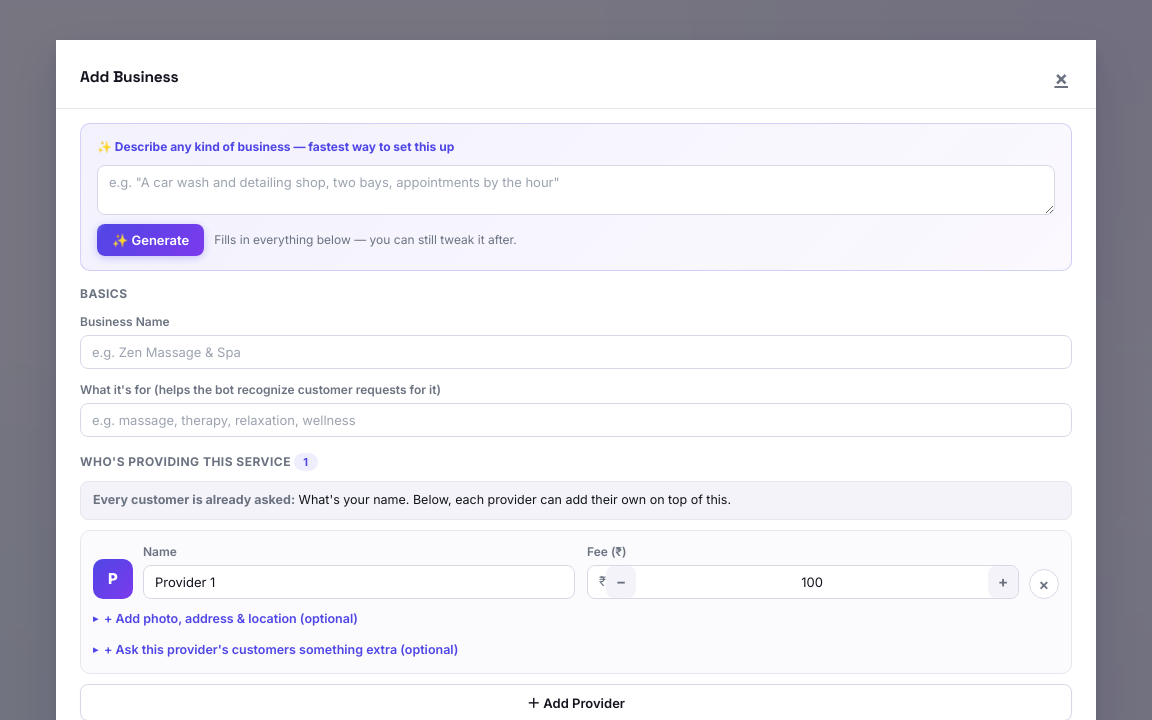
WorkflowEditorModal › removing an added extra question takes it back to zero
This screenshot has width=1152, height=720.
In the field with placeholder "e.g. Zen Massage & Spa": (576, 352) [80,335,1072,369], type "Downtown Salon"
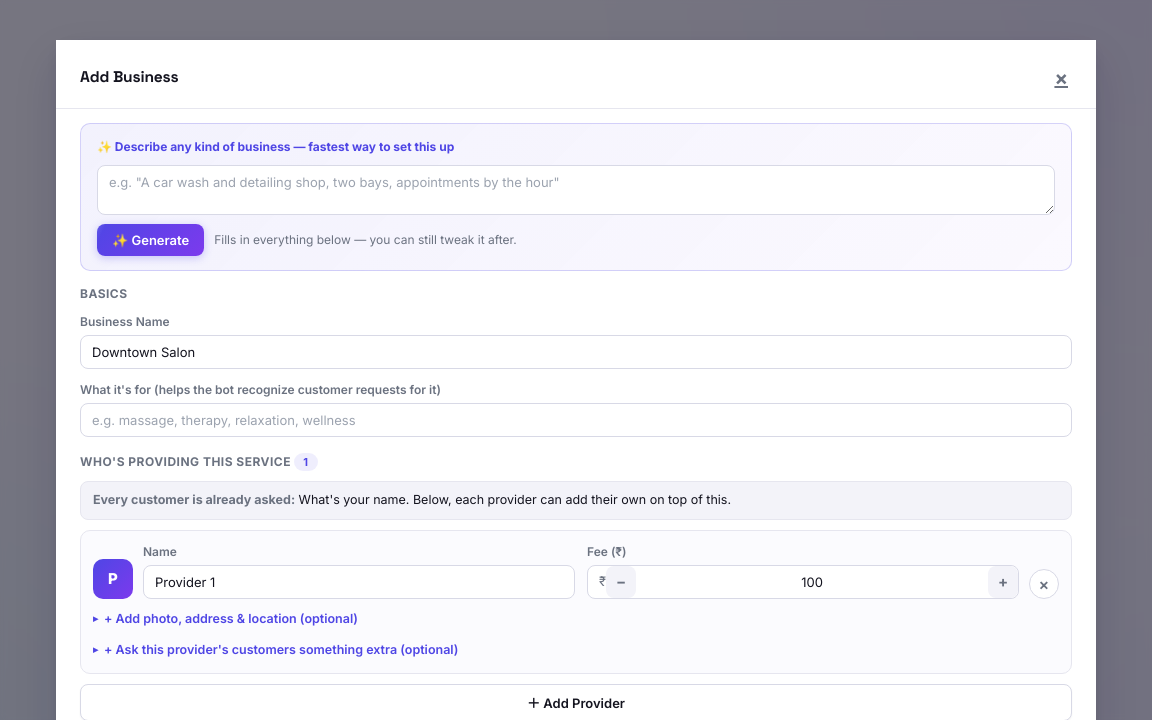
Click the button "▸ + Ask this provider's customers something extra (optional)": (281, 649) [93,638,1059,661]
(page scrolled)
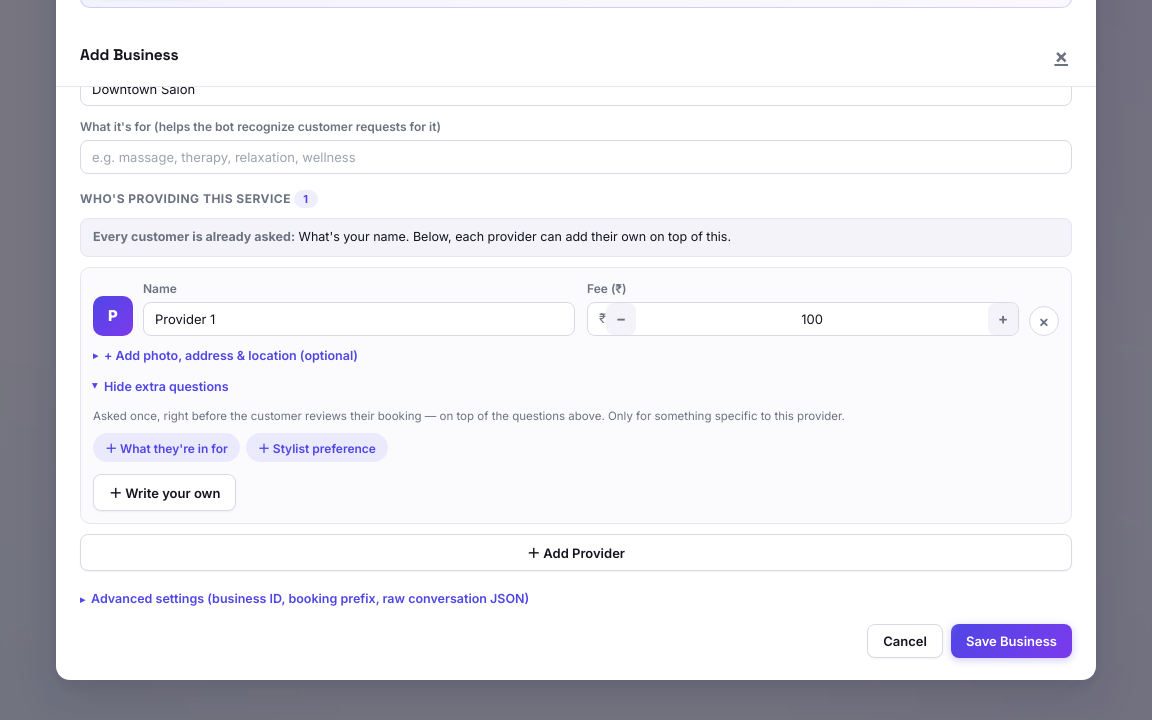
Click the button "＋ Write your own": (165, 492) [93,474,236,511]
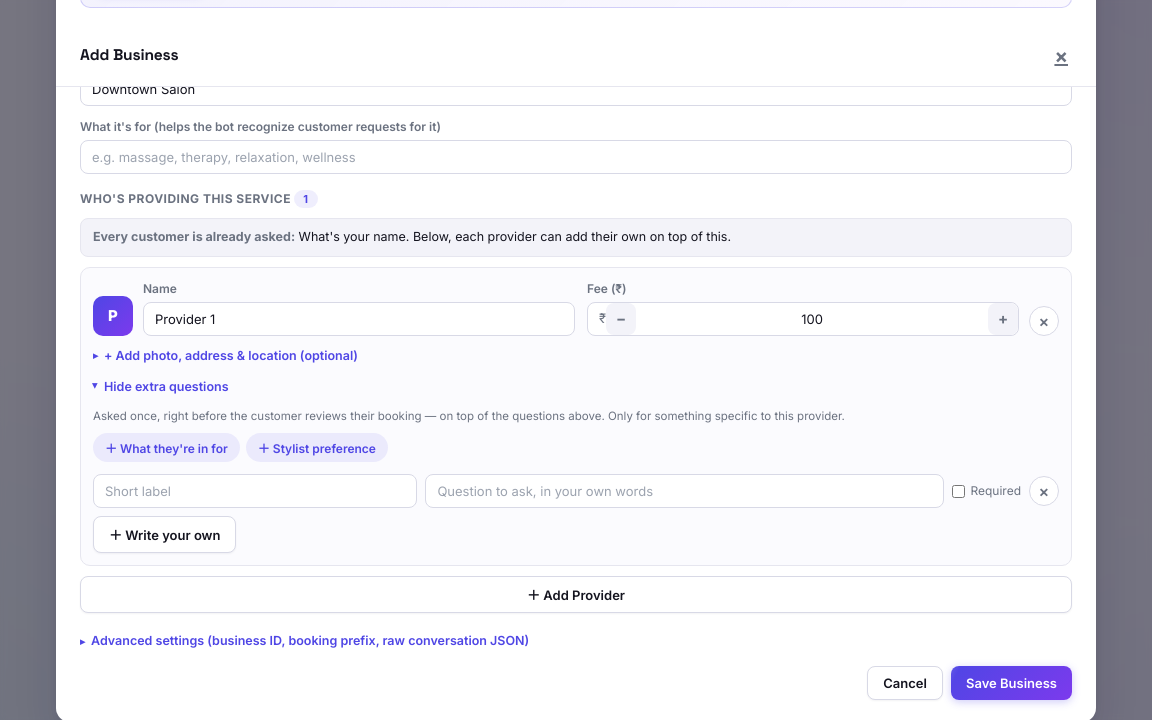
Now the button titled "Remove question" next to "Required" is shown
Click the button titled "Remove question" next to "Required": (1044, 491) [1029,476,1059,506]
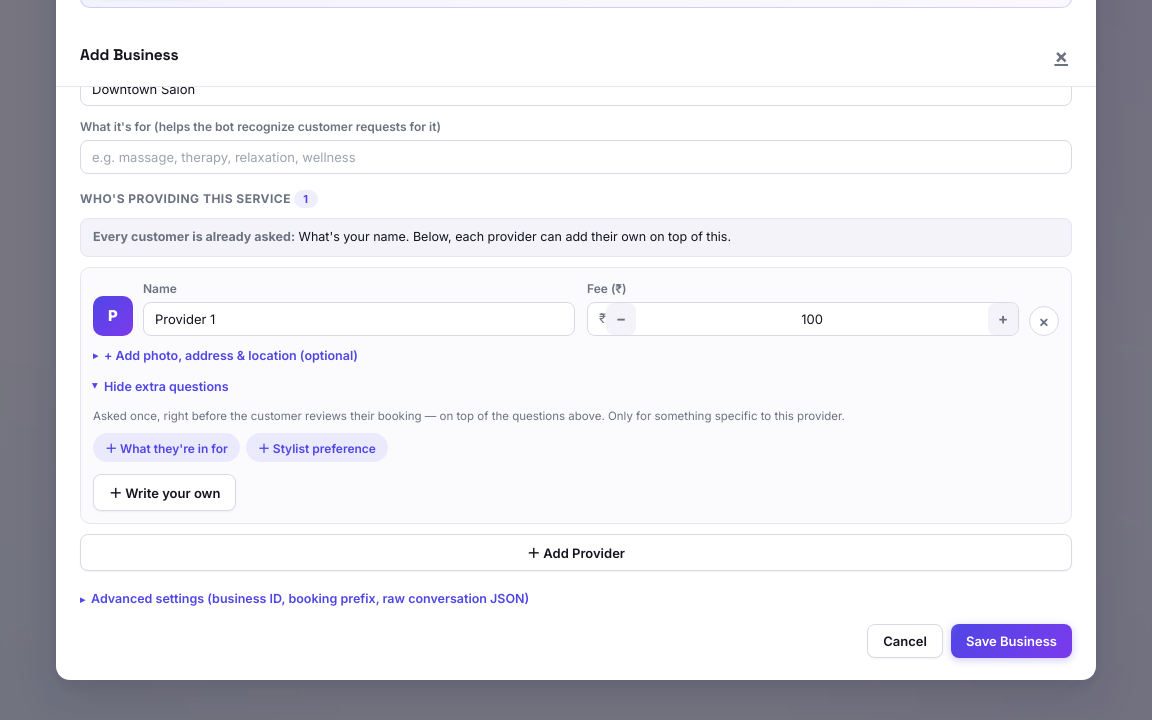
Click the button "▸ Hide extra questions": (166, 386) [93,375,1059,398]
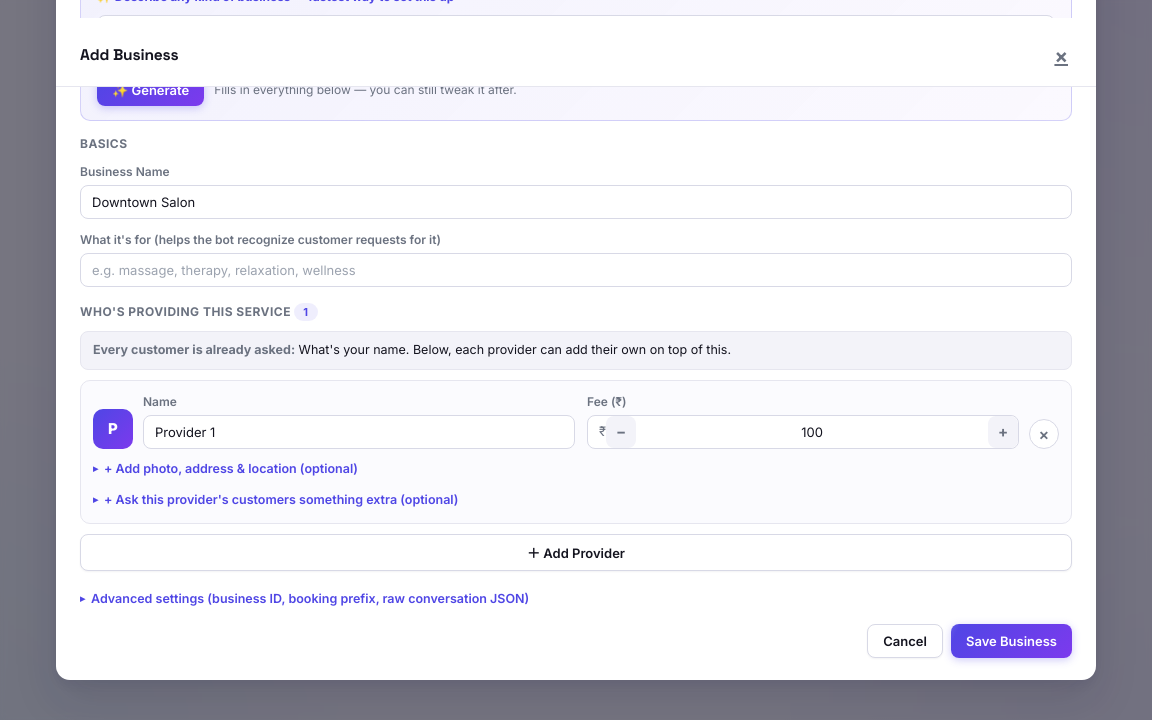
Now the button "▸ + Ask this provider's customers something extra (optional)" is shown, box [93,488,1059,511]
